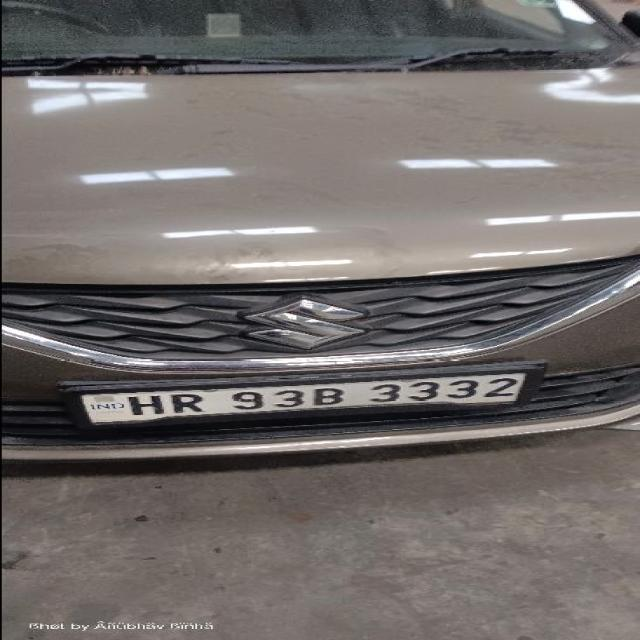license_plate: (56, 358, 549, 430)
